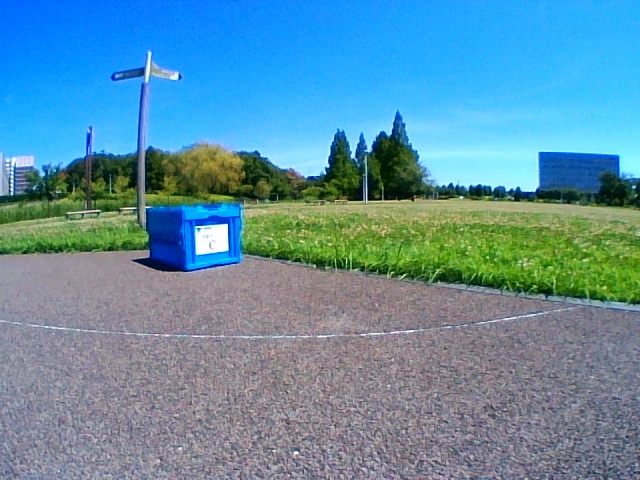blue_box: (147, 204, 240, 262)
tag: (196, 226, 228, 252)
